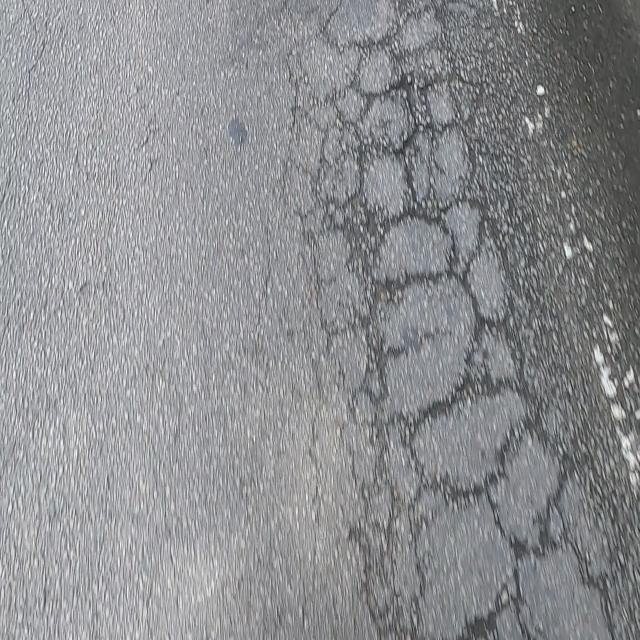Retak-Buaya: (276, 0, 627, 640)
